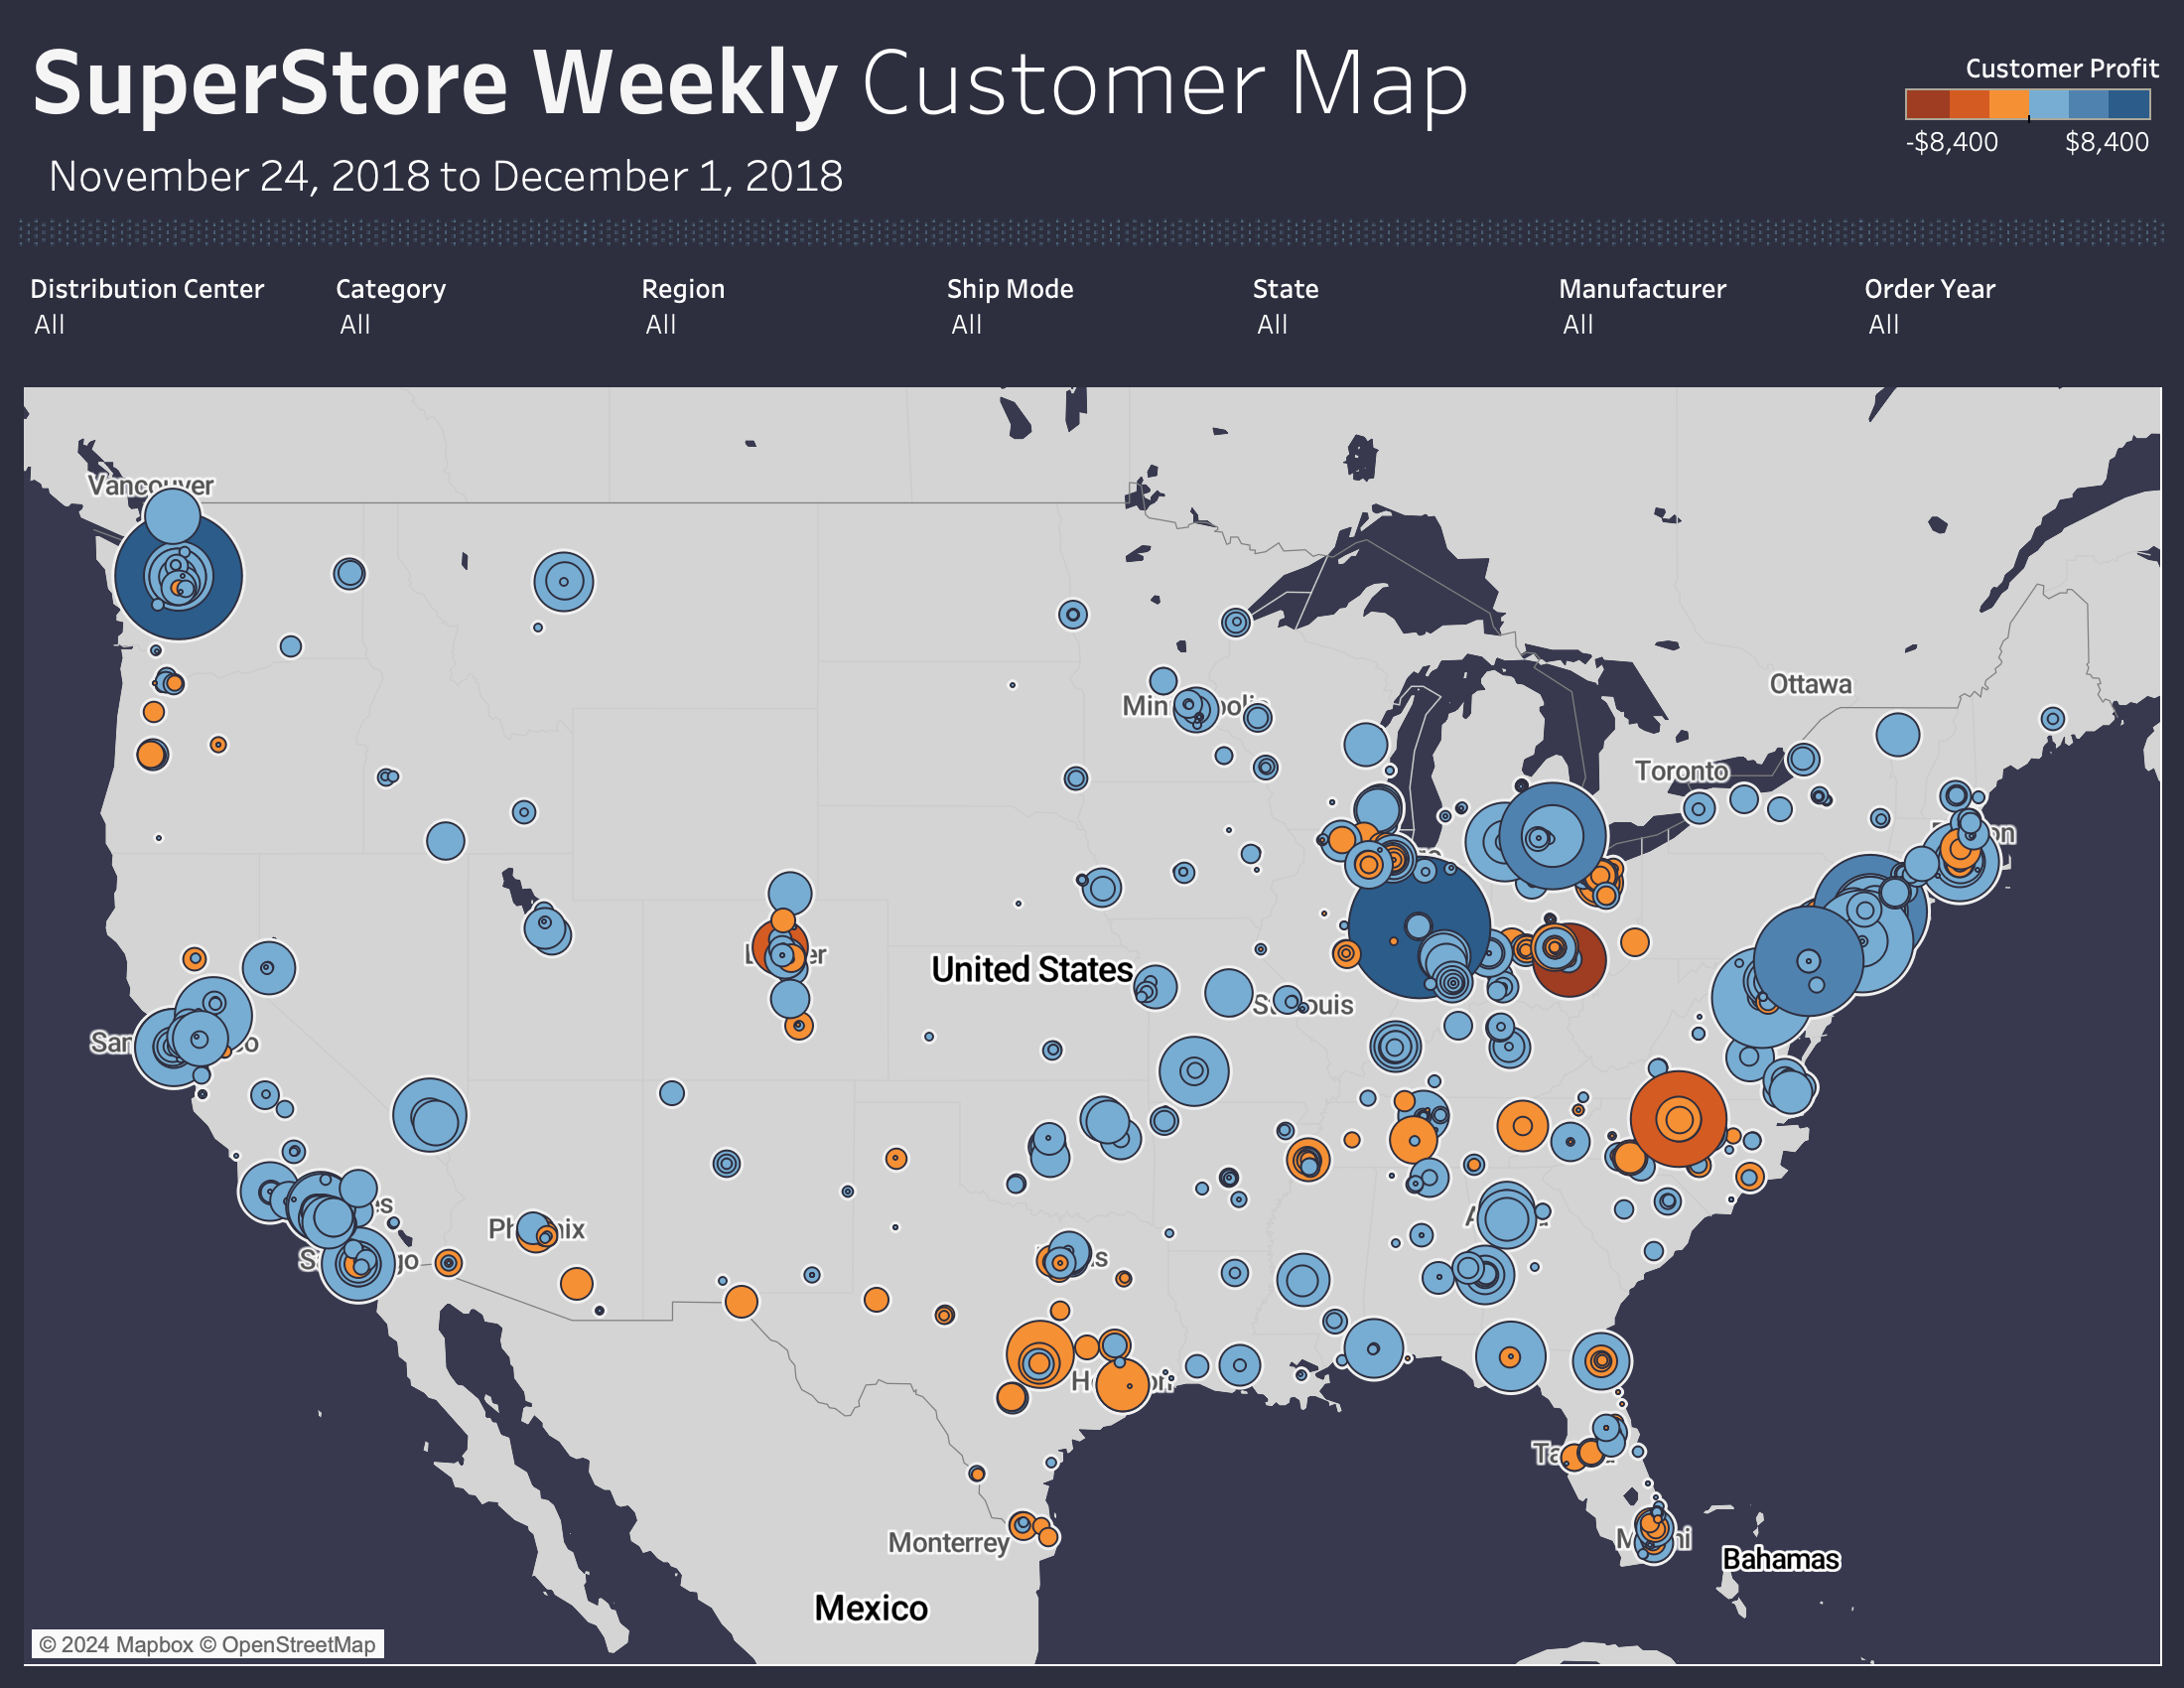

This screenshot's page, from the dashboard's own definition file:
{"tool":"tableau","page":{"name":"5 Geo Chart","canvas":[1100,850],"ordinal":4},"visuals":[{"type":"text","box":[8,8,1084,183]},{"type":"legend","title":"Big Dumb Map","param":"[Sample - Superstore].[sum:Profit:qk]","box":[956,21,132,79]},{"type":"worksheet","title":"Date","mark":"Automatic","box":[20,73,584,36]},{"type":"image","param":"Image/Border5.png","box":[8,110,1083,16]},{"type":"filter","title":"Big Dumb Map","param":"[Sample - Superstore].[State (group)]","box":[11,131,154,55]},{"type":"filter","title":"Big Dumb Map","param":"[Sample - Superstore].[none:Category:nk]","box":[165,131,154,55]},{"type":"filter","title":"Big Dumb Map","param":"[Sample - Superstore].[none:Region:nk]","box":[319,131,154,55]},{"type":"filter","title":"Big Dumb Map","param":"[Sample - Superstore].[none:Ship Mode:nk]","box":[473,131,154,55]},{"type":"filter","title":"Big Dumb Map","param":"[Sample - Superstore].[none:State:nk]","box":[627,131,154,55]},{"type":"filter","title":"Big Dumb Map","param":"[Sample - Superstore].[Product Name (group)]","box":[781,131,154,55]},{"type":"filter","title":"Big Dumb Map","param":"[Sample - Superstore].[yr:Order Date:ok]","box":[935,131,154,55]},{"type":"worksheet","title":"Big Dumb Map","mark":"Automatic","box":[8,191,1084,651]}]}

Visuals, with their boxes in screenshot pixels (x1, y1, x2, y2), scaled from the page's 1100x850 canvas onto the 2184x1688 screenshot:
text: {"x1": 16, "y1": 16, "x2": 2168, "y2": 379}
"Big Dumb Map" legend: {"x1": 1898, "y1": 42, "x2": 2160, "y2": 199}
"Date" worksheet: {"x1": 40, "y1": 145, "x2": 1199, "y2": 216}
image: {"x1": 16, "y1": 218, "x2": 2166, "y2": 250}
"Big Dumb Map" filter: {"x1": 22, "y1": 260, "x2": 328, "y2": 369}
"Big Dumb Map" filter: {"x1": 328, "y1": 260, "x2": 633, "y2": 369}
"Big Dumb Map" filter: {"x1": 633, "y1": 260, "x2": 939, "y2": 369}
"Big Dumb Map" filter: {"x1": 939, "y1": 260, "x2": 1245, "y2": 369}
"Big Dumb Map" filter: {"x1": 1245, "y1": 260, "x2": 1551, "y2": 369}
"Big Dumb Map" filter: {"x1": 1551, "y1": 260, "x2": 1856, "y2": 369}
"Big Dumb Map" filter: {"x1": 1856, "y1": 260, "x2": 2162, "y2": 369}
"Big Dumb Map" worksheet: {"x1": 16, "y1": 379, "x2": 2168, "y2": 1672}
